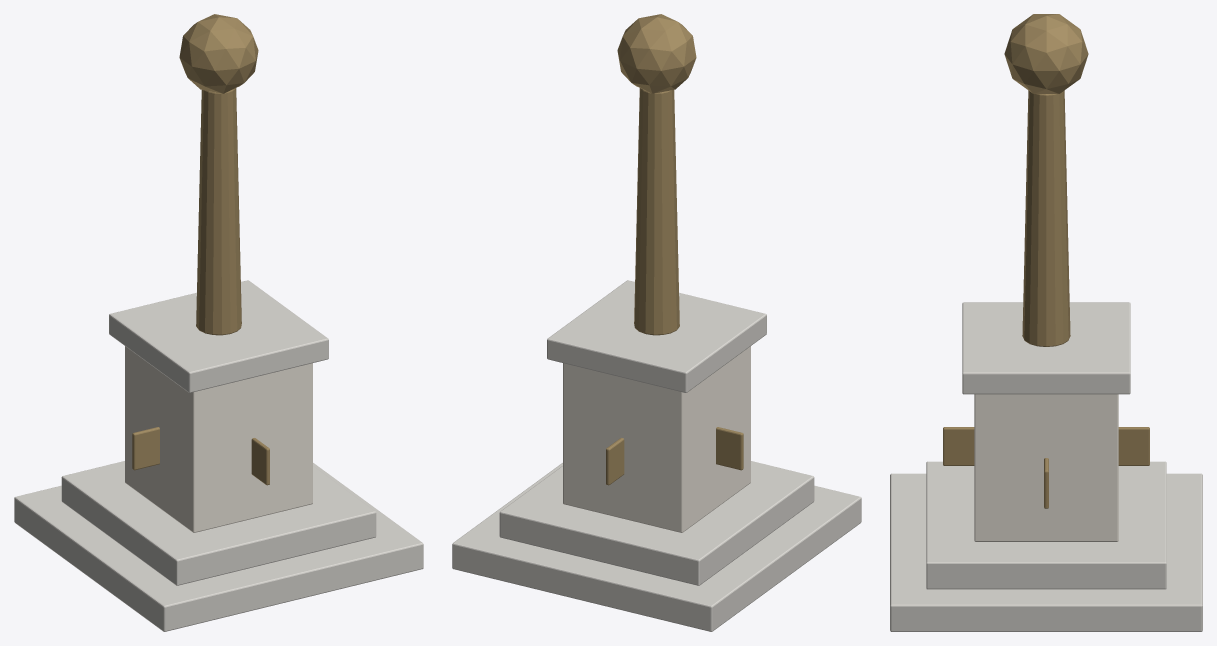
The model's file is Monument.fbx.
3 views of the same model, side by side, from view 1: azimuth 30°, elevation 25°; view 2: azimuth 150°, elevation 25°; view 3: azimuth 270°, elevation 25° (orthographic). The views are drawn at different scales.
Visible parts, largest first — view 1: Monument; view 2: Monument; view 3: Monument.
Part boxes in pixels (<box>): Monument: <box>14,14,423,631</box>; Monument: <box>452,14,861,631</box>; Monument: <box>890,14,1202,631</box>.
Size of the model in its own units: 2.6 by 5.05 by 2.6.
